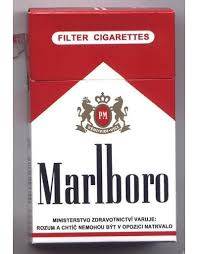marlboro: (29, 16, 177, 244)
